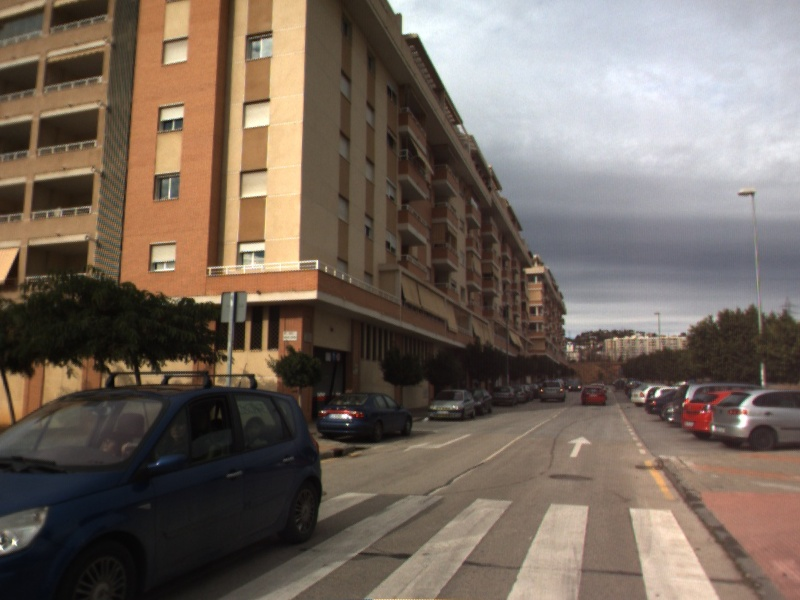STRAIGHT: (566, 434, 594, 459)
